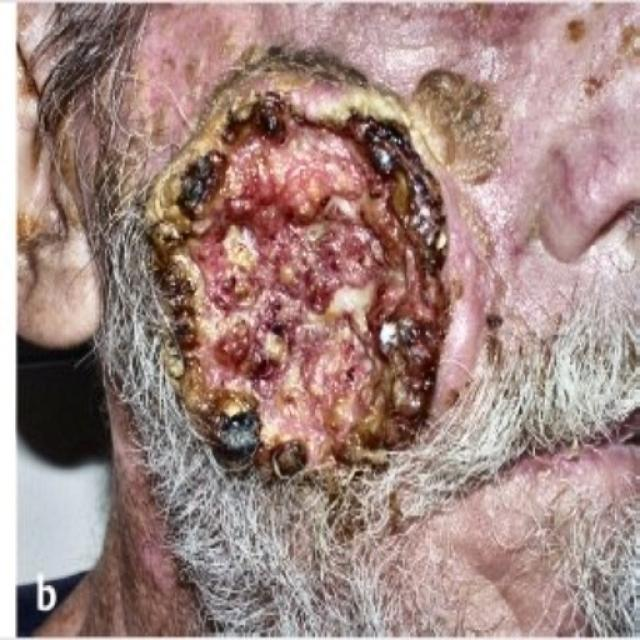cancer-detection: (153, 68, 507, 480)
processing_area: (140, 48, 515, 485)
